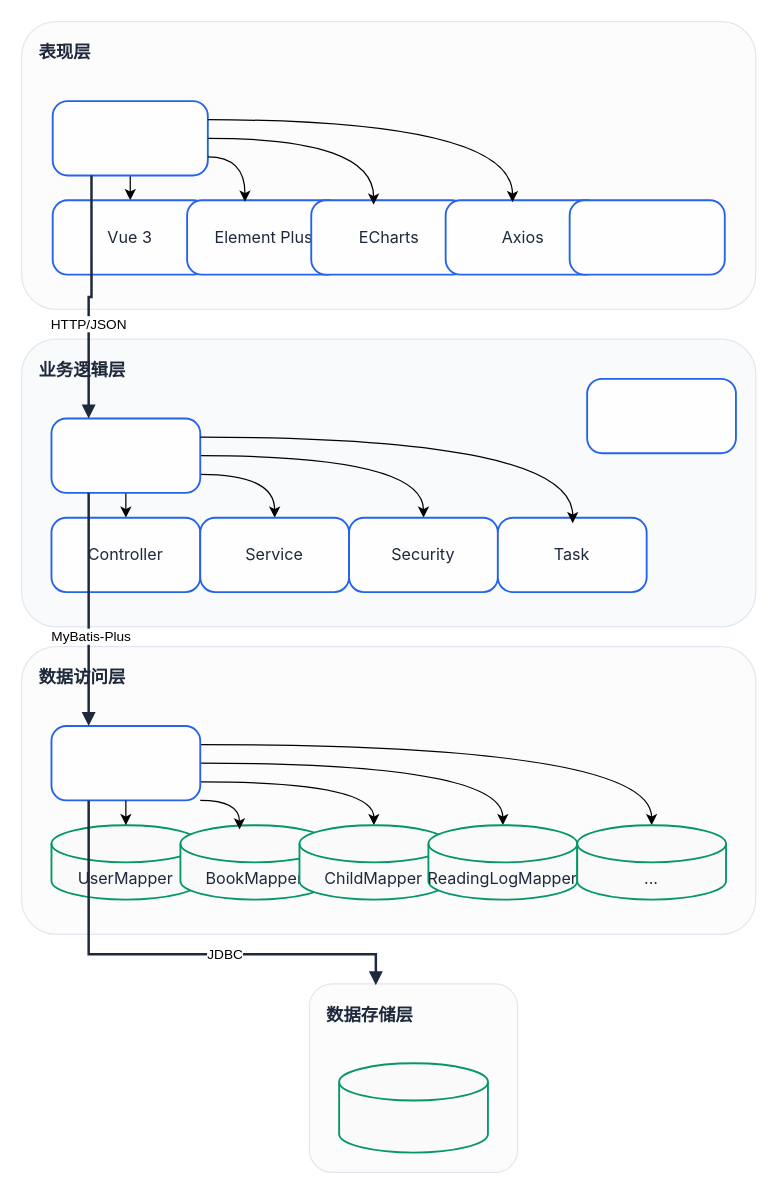
This 777x1194 diagram has some shape labels left out. Here are the shapes that lost their labels. From the top down, the centre of each, then its label:
At (129,138): "表现层 (Presentation Layer)".
At (646,237): "Pinia".
At (661,415): "Spring Boot 3 + Java 17".
At (125,455): "业务逻辑层 (Business Logic Layer)".
At (125,763): "数据访问层 (Data Access Layer)".
At (413,1107): "数据存储层 - MySQL 8.0".
